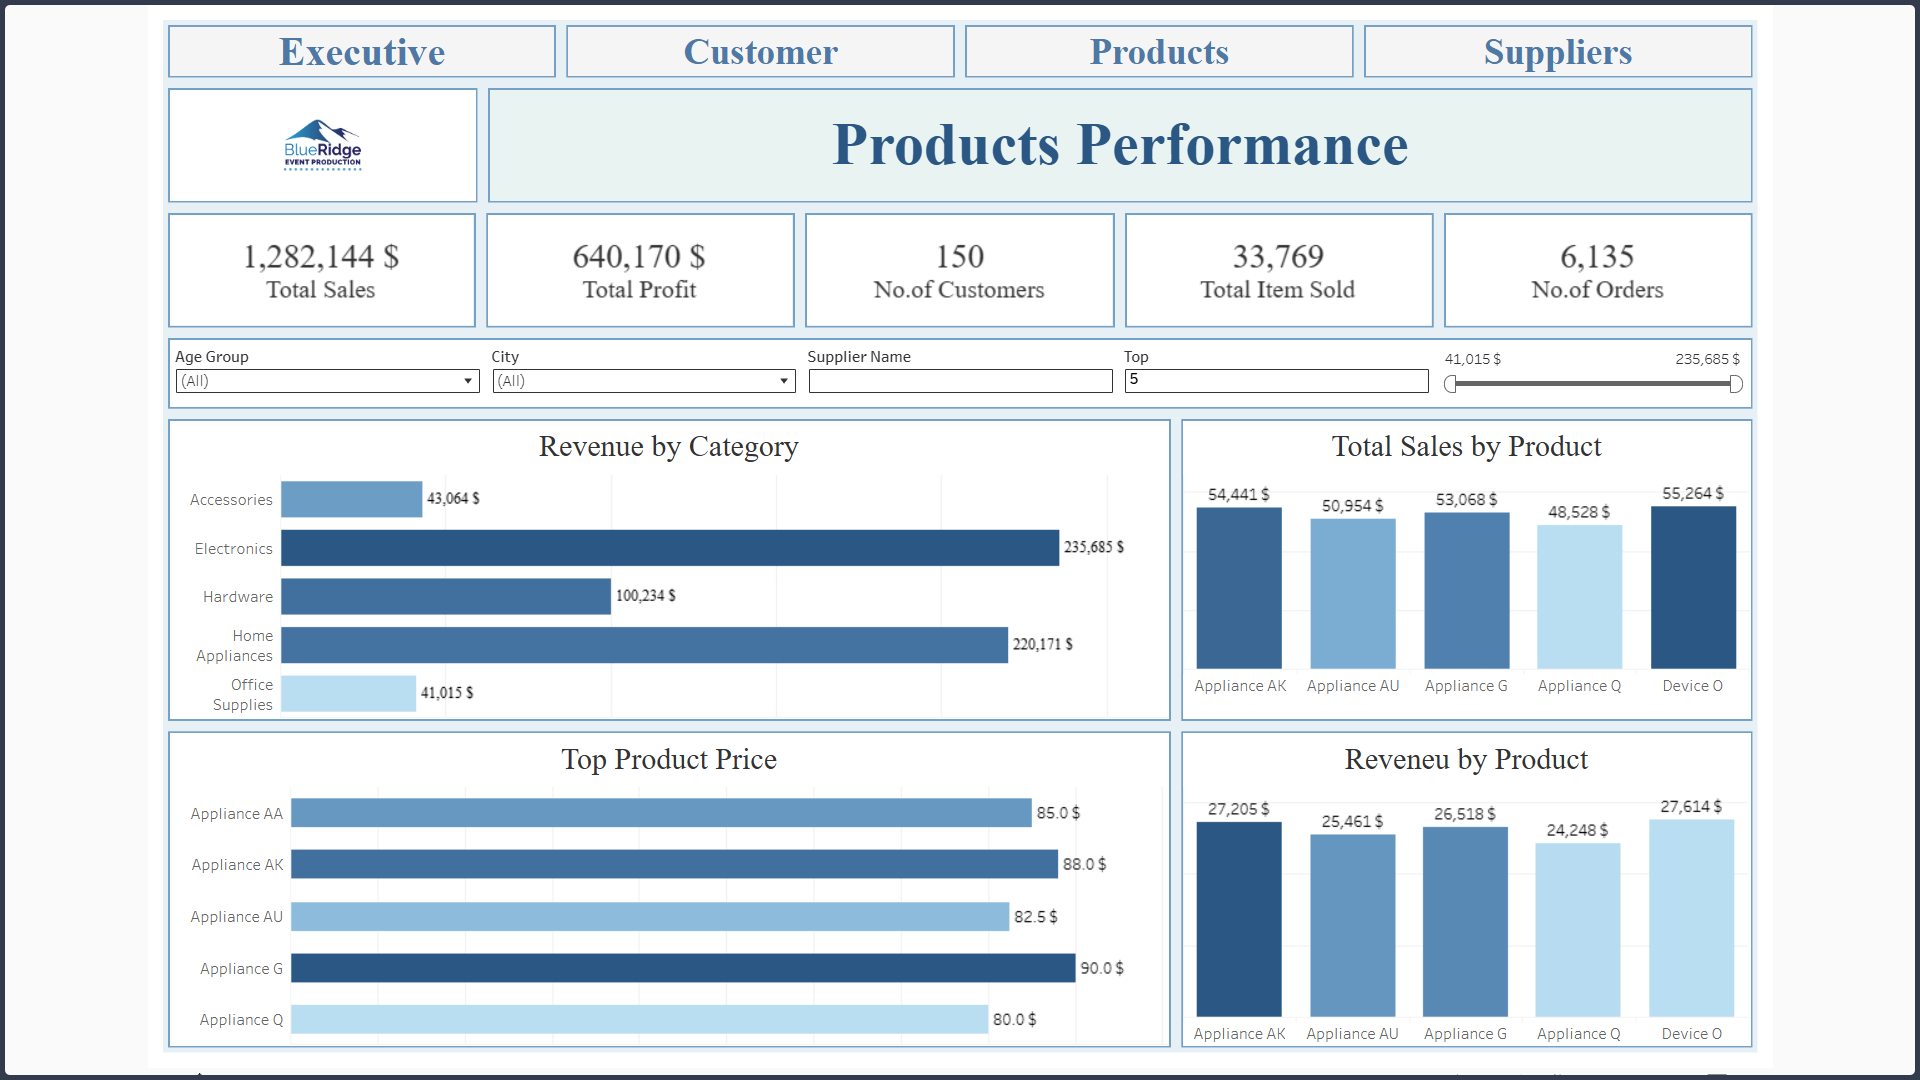

The dashboard page shown, as its layout file describes it:
{"tool":"tableau","page":{"name":"Products ","canvas":[1300,850],"ordinal":2},"visuals":[{"type":"dashboard-object","box":[12,12,323,50]},{"type":"dashboard-object","box":[335,12,323,50]},{"type":"dashboard-object","box":[658,12,323,50]},{"type":"dashboard-object","box":[981,12,323,50]},{"type":"image","param":"C:/Users/Ahmed/AppData/Local/Temp/TableauTemp/1hvyjgg14ugloi1du9xk40uoaza9/Sheet","box":[13,71,256,92]},{"type":"text","box":[269,71,1034,92]},{"type":"worksheet","title":"Total sales","mark":"Automatic","box":[12,172,258.4,99]},{"type":"worksheet","title":"Total profit","mark":"Automatic","box":[270.4,172,258.4,99]},{"type":"worksheet","title":"No.of Cust","mark":"Automatic","box":[528.8,172,258.4,99]},{"type":"worksheet","title":"total items","mark":"Automatic","box":[787.2,172,258.4,99]},{"type":"worksheet","title":"No. of Orders","mark":"Automatic","box":[1045.6,172,258.4,99]},{"type":"filter","title":"No. of Orders","param":"[federated.0gzt13c13roajo1d21p27038xadh].[none:Calculation_0430227850764292:nk]","box":[14,281,258,63]},{"type":"filter","title":"Total Sales Per Product","param":"[federated.0gzt13c13roajo1d21p27038xadh].[none:City:nk]","box":[272,281,258,63]},{"type":"filter","title":"No. of Orders","param":"[federated.0gzt13c13roajo1d21p27038xadh].[none:Supplier_Name:nk]","box":[530,281,258,63]},{"type":"parameter","param":"[Parameters].[Parameter 1]","box":[788,281,257,63]},{"type":"filter","title":"Revenue by Category","param":"[federated.0gzt13c13roajo1d21p27038xadh].[sum:Calculation_1653159143706629:qk]","box":[1045,281,257,63]},{"type":"worksheet","title":"Revenue by Category","mark":"Automatic","rows":["Category"],"cols":["Calculation_1653159143706629"],"box":[12,354,811,263]},{"type":"worksheet","title":"Total Sales Per Product","mark":"Automatic","rows":["Calculation_1653159142006786"],"cols":["Product_Name"],"box":[823,354,481,263]},{"type":"worksheet","title":"Product Price","mark":"Automatic","rows":["Product_Name"],"cols":["Price"],"box":[12,625,810,229]},{"type":"worksheet","title":"Reveneu by Product","mark":"Automatic","rows":["Calculation_1653159143706629"],"cols":["Product_Name"],"box":[822,625,482,229]}]}

Visuals, with their boxes on the page's 1300x850 design canvas (x1, y1, x2, y2). These are canvas units, not pixel positions in the 1920x1080 screenshot, which may show the page scaled, cropped or inside an application window:
dashboard-object: Rect(12, 12, 335, 62)
dashboard-object: Rect(335, 12, 658, 62)
dashboard-object: Rect(658, 12, 981, 62)
dashboard-object: Rect(981, 12, 1304, 62)
image: Rect(13, 71, 269, 163)
text: Rect(269, 71, 1303, 163)
"Total sales" worksheet: Rect(12, 172, 270, 271)
"Total profit" worksheet: Rect(270, 172, 529, 271)
"No.of Cust" worksheet: Rect(529, 172, 787, 271)
"total items" worksheet: Rect(787, 172, 1046, 271)
"No. of Orders" worksheet: Rect(1046, 172, 1304, 271)
"No. of Orders" filter: Rect(14, 281, 272, 344)
"Total Sales Per Product" filter: Rect(272, 281, 530, 344)
"No. of Orders" filter: Rect(530, 281, 788, 344)
parameter: Rect(788, 281, 1045, 344)
"Revenue by Category" filter: Rect(1045, 281, 1302, 344)
"Revenue by Category" worksheet: Rect(12, 354, 823, 617)
"Total Sales Per Product" worksheet: Rect(823, 354, 1304, 617)
"Product Price" worksheet: Rect(12, 625, 822, 854)
"Reveneu by Product" worksheet: Rect(822, 625, 1304, 854)
